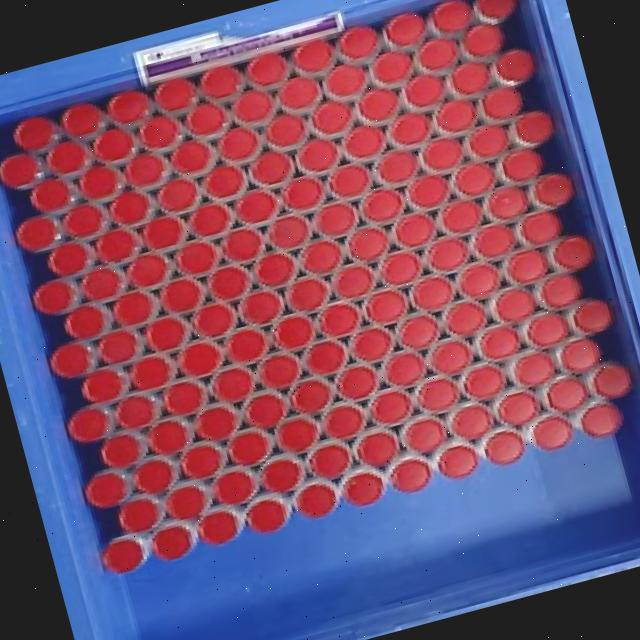vials: (455, 261, 501, 299), (274, 415, 320, 453), (227, 427, 273, 465), (180, 441, 226, 479), (520, 312, 568, 348), (368, 388, 414, 425), (132, 456, 178, 493), (33, 278, 80, 314), (49, 342, 96, 378), (474, 324, 521, 360), (224, 326, 269, 363), (270, 313, 315, 350), (410, 274, 455, 311), (395, 312, 440, 349), (280, 175, 326, 211), (266, 213, 312, 249), (97, 328, 143, 364), (362, 288, 408, 324), (427, 338, 473, 374), (312, 201, 359, 236), (237, 289, 284, 324), (210, 365, 254, 402), (322, 402, 366, 439), (159, 277, 204, 313), (191, 301, 236, 337), (145, 315, 190, 351), (178, 341, 223, 377), (549, 234, 594, 270), (442, 299, 487, 335), (303, 339, 348, 375), (162, 379, 207, 415), (381, 350, 426, 386), (436, 199, 482, 234), (348, 326, 394, 361), (15, 215, 59, 251), (96, 227, 140, 263), (207, 264, 251, 300), (299, 238, 343, 274), (345, 225, 389, 261), (392, 212, 436, 248), (378, 250, 422, 286), (317, 301, 361, 337), (257, 352, 301, 388), (289, 377, 333, 413), (335, 364, 379, 400), (85, 471, 129, 507), (123, 152, 168, 187), (109, 190, 154, 225), (126, 252, 171, 287), (115, 393, 160, 428), (174, 240, 220, 274), (425, 236, 468, 272), (195, 404, 238, 440), (244, 391, 287, 427), (101, 537, 144, 573), (360, 187, 404, 222), (220, 227, 264, 262), (332, 263, 376, 298), (285, 276, 329, 311), (248, 151, 293, 185), (49, 241, 94, 275), (80, 266, 125, 300), (13, 115, 56, 150), (328, 163, 371, 198), (407, 174, 450, 209), (254, 251, 297, 286), (130, 354, 173, 389), (539, 273, 582, 308), (67, 407, 110, 442), (512, 351, 555, 386), (462, 364, 505, 399), (579, 402, 622, 437), (245, 52, 289, 86), (78, 165, 122, 199), (296, 138, 340, 172), (141, 215, 185, 249), (518, 211, 562, 245), (155, 77, 197, 112), (170, 139, 212, 174), (493, 287, 535, 322), (148, 419, 190, 454), (451, 404, 493, 439), (545, 376, 587, 411), (157, 177, 200, 211), (484, 186, 527, 220), (471, 224, 514, 258), (558, 338, 601, 372), (118, 497, 161, 531), (45, 141, 89, 174), (101, 432, 142, 467), (497, 390, 538, 425), (235, 189, 277, 223), (532, 173, 574, 207), (505, 249, 547, 283), (416, 377, 458, 411), (213, 470, 255, 504), (342, 125, 385, 158), (420, 137, 463, 170), (511, 110, 554, 143), (592, 363, 632, 398), (450, 162, 495, 193), (63, 203, 104, 237), (82, 368, 123, 402), (430, 0, 472, 33), (232, 89, 274, 122), (139, 115, 181, 148), (93, 128, 135, 161), (265, 113, 307, 146), (310, 100, 352, 133), (357, 88, 399, 121), (434, 99, 476, 132), (189, 203, 231, 236), (468, 124, 510, 157), (450, 61, 490, 95), (113, 291, 153, 325), (484, 430, 524, 464), (107, 90, 148, 123), (218, 126, 259, 159), (404, 74, 445, 107), (482, 86, 523, 119), (389, 112, 430, 145), (377, 150, 418, 183), (165, 485, 206, 518), (309, 444, 350, 477), (390, 458, 431, 491), (405, 418, 446, 451), (199, 64, 241, 96), (279, 76, 321, 108), (501, 148, 543, 180), (0, 153, 39, 187), (573, 299, 612, 333), (152, 525, 191, 559), (338, 25, 378, 58), (30, 178, 70, 211), (64, 305, 104, 338), (261, 458, 301, 491), (532, 416, 572, 449), (438, 444, 478, 477), (198, 510, 238, 543), (343, 472, 383, 505), (292, 38, 333, 70), (61, 102, 102, 134), (463, 23, 504, 55), (418, 37, 459, 69), (325, 63, 366, 95), (297, 483, 335, 517), (358, 432, 397, 465), (247, 499, 286, 532), (385, 12, 425, 44), (496, 49, 535, 81), (186, 102, 225, 133), (205, 165, 244, 196), (372, 51, 412, 81), (475, 0, 517, 19)
